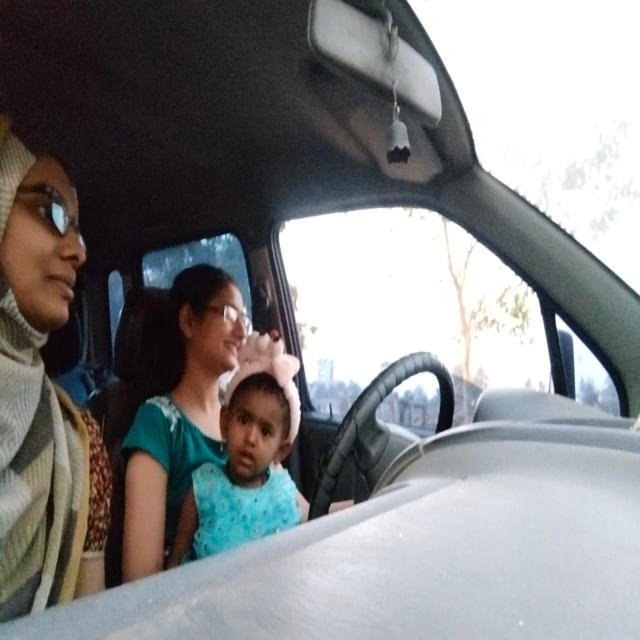child: (213, 338, 308, 493)
person: (0, 106, 107, 384), (162, 242, 262, 382)
